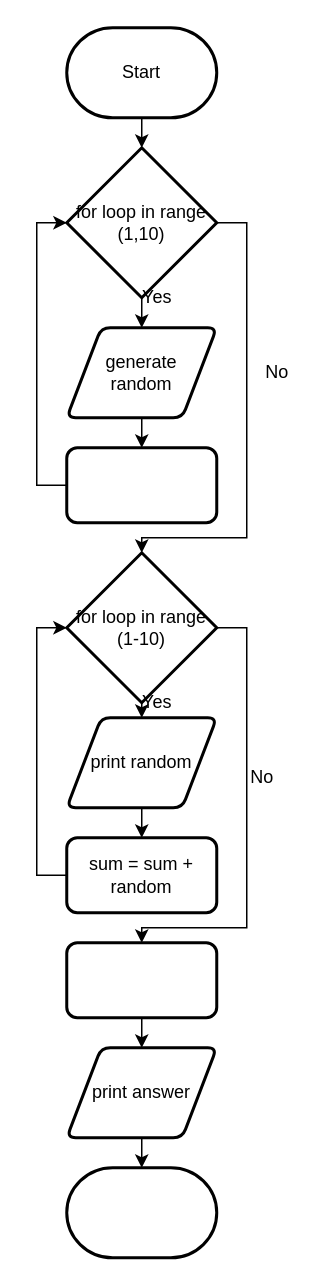
This 326x1284 diagram has some shape labels left out. The shapes that lost their labels are listed below. From the top down, each one's centre as x and y in pixels, then its label:
At [141,485]: "add random integer".
At [141,979]: "answer = sum / loop_counter".
At [141,1212]: "Stop".
